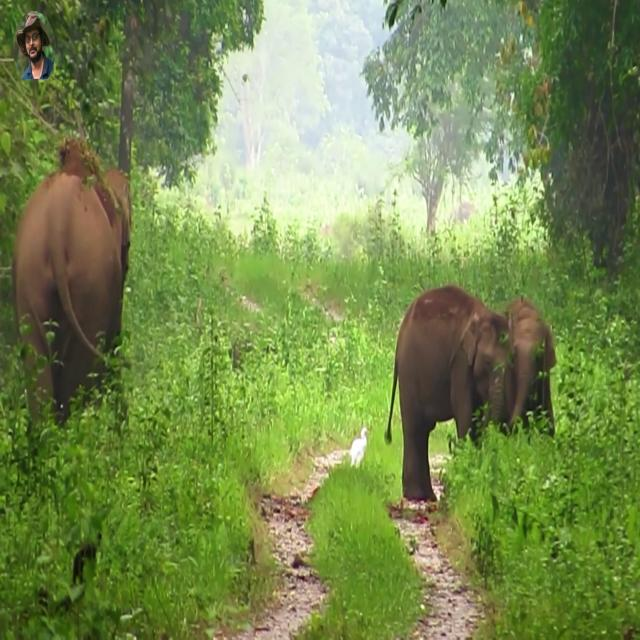Elephant: (384, 284, 554, 498), (10, 135, 132, 429)
